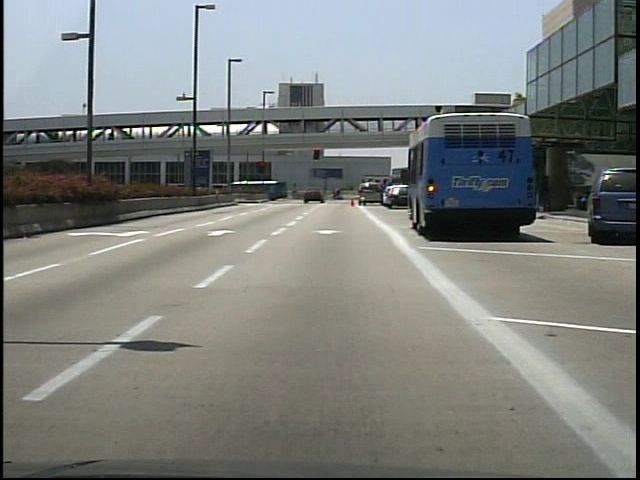person: (540, 175, 556, 211), (334, 187, 347, 202), (337, 187, 338, 202)
